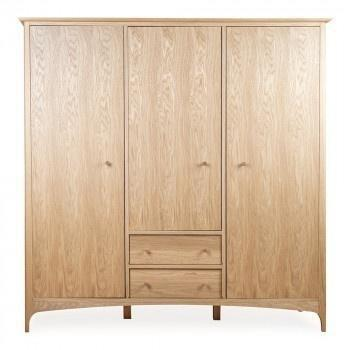Armario: (18, 15, 335, 333)
